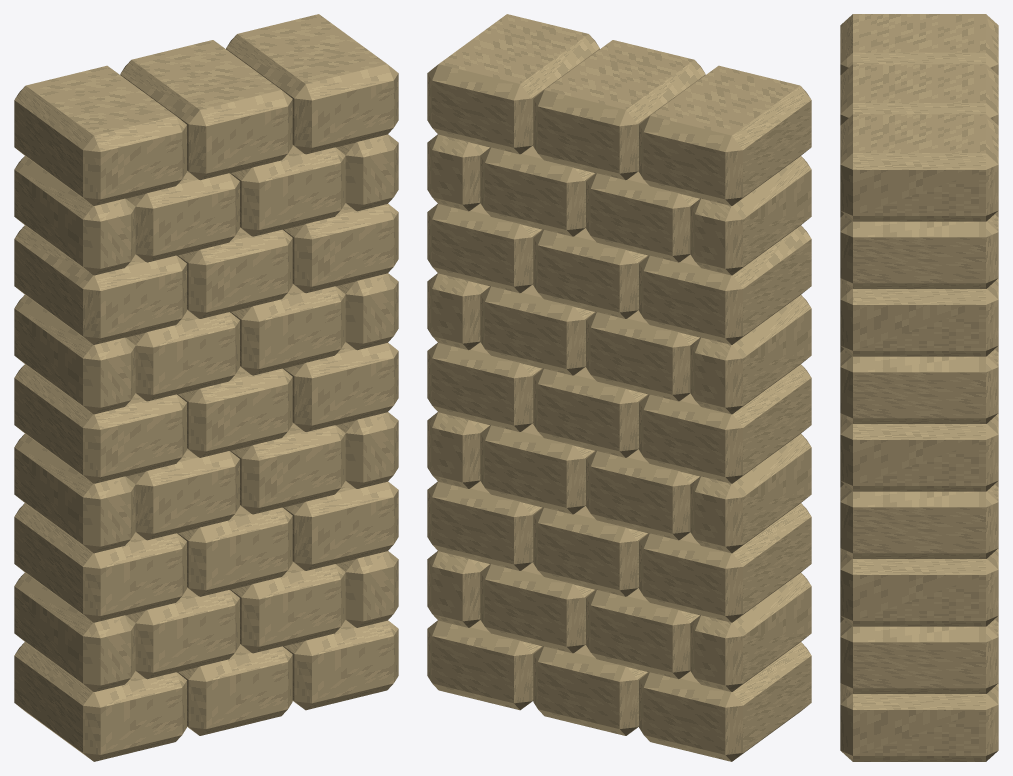
The model's file is f_sandbag_wall.glb.
The picture shows the model from 3 angles, left to right: view 1: azimuth 30°, elevation 25°; view 2: azimuth 150°, elevation 25°; view 3: azimuth 270°, elevation 25°; orthographic projection. The views are drawn at different scales.
Parts seen in each view (by area): view 1: block_bag-8--0.33, block_bag-8-0.33, block_bag-8-0, block_bag-0--0.33, block_bag-4--0.33, block_bag-2--0.33, block_bag-6--0.33, block_bag-5--0.41, block_bag-1--0.41, block_bag-7--0.41, block_bag-3--0.41, block_bag-0-0.33 (+19 smaller); view 2: block_bag-8--0.33, block_bag-8-0.33, block_bag-8-0, block_bag-0--0.33, block_bag-4--0.33, block_bag-2--0.33, block_bag-6--0.33, block_bag-5--0.41, block_bag-1--0.41, block_bag-7--0.41, block_bag-3--0.41, block_bag-0-0.33 (+19 smaller); view 3: block_bag-8-0.33, block_bag-0-0.33, block_bag-4-0.33, block_bag-6-0.33, block_bag-2-0.33, block_bag-1-0.41, block_bag-3-0.41, block_bag-5-0.41, block_bag-7-0.41, block_bag-8-0, block_bag-8--0.33.
Part boxes in pixels (box(x1,y1,x2,y2)): block_bag-8--0.33: box(14, 65, 186, 205); block_bag-8-0.33: box(226, 14, 398, 154); block_bag-8-0: box(120, 40, 292, 180); block_bag-0--0.33: box(14, 642, 186, 761); block_bag-4--0.33: box(14, 364, 186, 483); block_bag-2--0.33: box(14, 503, 186, 622); block_bag-6--0.33: box(14, 225, 186, 344); block_bag-5--0.41: box(14, 295, 135, 414); block_bag-1--0.41: box(14, 572, 135, 691); block_bag-7--0.41: box(14, 156, 135, 275); block_bag-3--0.41: box(14, 434, 135, 553); block_bag-0-0.33: box(283, 620, 398, 710); block_bag-8--0.33: box(639, 65, 811, 205); block_bag-8-0.33: box(427, 14, 599, 154); block_bag-8-0: box(533, 40, 705, 180); block_bag-0--0.33: box(639, 642, 811, 761); block_bag-4--0.33: box(639, 364, 811, 483); block_bag-2--0.33: box(639, 503, 811, 622); block_bag-6--0.33: box(639, 225, 811, 344); block_bag-5--0.41: box(690, 295, 811, 414); block_bag-1--0.41: box(690, 572, 811, 691); block_bag-7--0.41: box(690, 156, 811, 275); block_bag-3--0.41: box(690, 434, 811, 553); block_bag-0-0.33: box(427, 620, 542, 710); block_bag-8-0.33: box(840, 114, 998, 221); block_bag-0-0.33: box(840, 683, 998, 761); block_bag-4-0.33: box(840, 413, 998, 491); block_bag-6-0.33: box(840, 278, 998, 356); block_bag-2-0.33: box(840, 548, 998, 626); block_bag-1-0.41: box(840, 619, 998, 693); block_bag-3-0.41: box(840, 484, 998, 558); block_bag-5-0.41: box(840, 349, 998, 423); block_bag-7-0.41: box(840, 214, 998, 288); block_bag-8-0: box(840, 64, 998, 125); block_bag-8--0.33: box(840, 14, 998, 74).
Bounding box in the file's own units: 0.985 × 1.87 × 0.44.
1 material, 1 textured.
